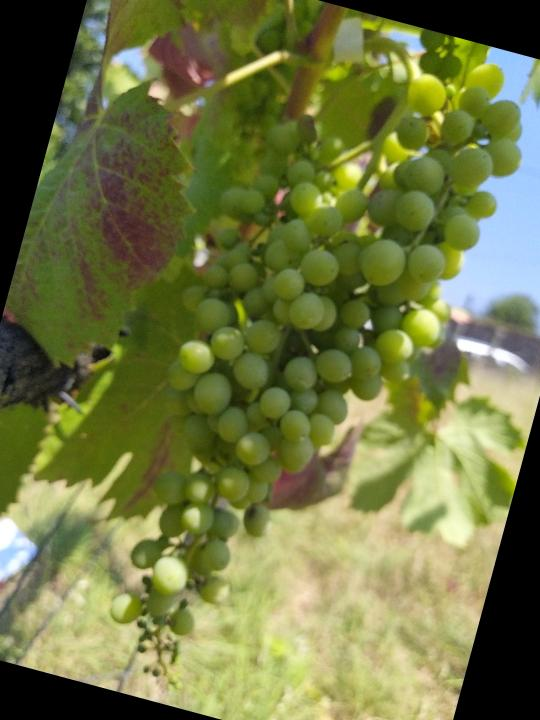grape: (84, 1, 540, 720)
